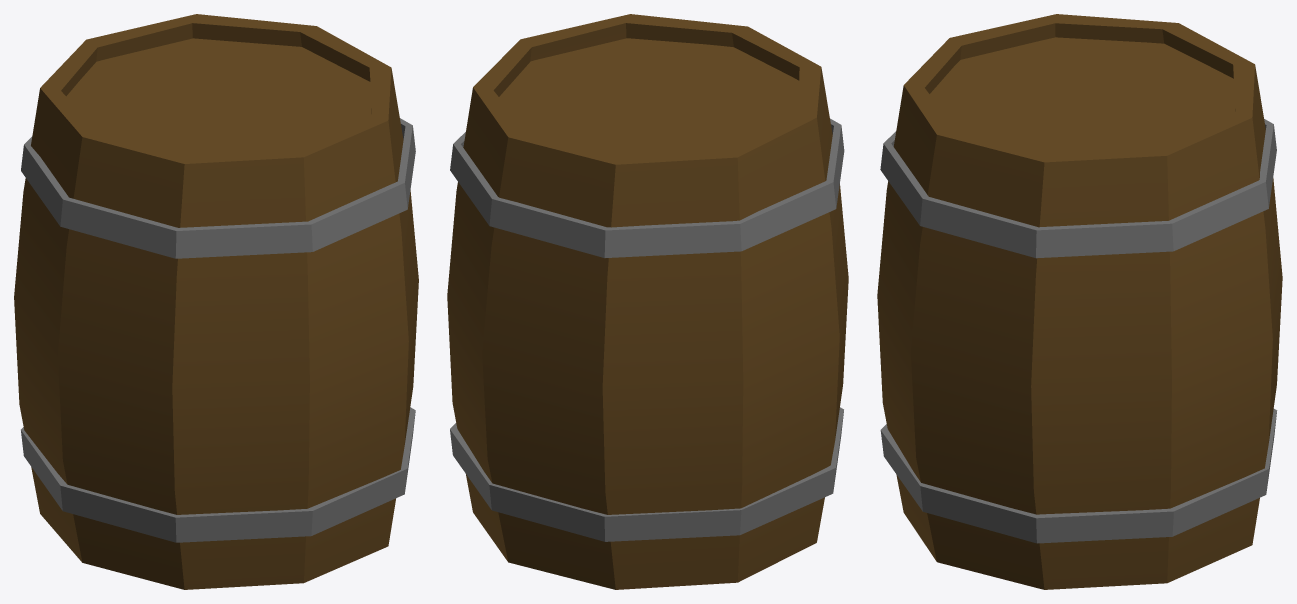
The model's file is asset_Barrel.fbx.
3 views of the same model, side by side, from view 1: azimuth 30°, elevation 25°; view 2: azimuth 150°, elevation 25°; view 3: azimuth 270°, elevation 25° (orthographic).
Parts seen in each view (by area): view 1: Plank04, Plank03, Plank05, Up, Plank02, PipeUp, PipeDown, Plank06, Plank08, Plan09, Plank07, Plank01; view 2: Plank01, Plan09, Plank02, Up, Plank08, PipeUp, PipeDown, Plank03, Plank05, Plank06, Plank04, Plank07; view 3: Plank07, Plank06, Plank08, Up, PipeUp, Plank05, PipeDown, Plan09, Plank02, Plank03, Plank01, Plank04.
Boxes of the visible parts, bbox=[...] form: Plank04: bbox=[172, 148, 309, 589]; Plank03: bbox=[58, 133, 193, 589]; Plank05: bbox=[299, 114, 408, 582]; Up: bbox=[66, 38, 371, 155]; Plank02: bbox=[14, 88, 101, 562]; PipeUp: bbox=[21, 118, 415, 258]; PipeDown: bbox=[21, 407, 415, 542]; Plank06: bbox=[369, 67, 418, 444]; Plank08: bbox=[192, 14, 316, 46]; Plan09: bbox=[86, 14, 196, 61]; Plank07: bbox=[300, 26, 390, 81]; Plank01: bbox=[40, 39, 97, 96]; Plank01: bbox=[602, 148, 743, 589]; Plan09: bbox=[482, 134, 625, 589]; Plank02: bbox=[733, 112, 839, 582]; Up: bbox=[499, 38, 799, 156]; Plank08: bbox=[447, 87, 528, 561]; PipeUp: bbox=[450, 118, 844, 257]; PipeDown: bbox=[450, 407, 843, 541]; Plank03: bbox=[798, 66, 848, 440]; Plank05: bbox=[626, 14, 747, 47]; Plank06: bbox=[521, 14, 630, 61]; Plank04: bbox=[732, 26, 820, 80]; Plank07: bbox=[473, 39, 531, 96]; Plank07: bbox=[1031, 146, 1171, 589]; Plank06: bbox=[910, 132, 1054, 589]; Plank08: bbox=[1163, 111, 1272, 582]; Up: bbox=[929, 37, 1235, 154]; PipeUp: bbox=[880, 119, 1276, 258]; Plank05: bbox=[877, 85, 957, 561]; PipeDown: bbox=[880, 408, 1277, 543]; Plan09: bbox=[1233, 64, 1282, 442]; Plank02: bbox=[1055, 14, 1178, 43]; Plank03: bbox=[950, 14, 1056, 59]; Plank01: bbox=[1162, 23, 1254, 78]; Plank04: bbox=[904, 38, 961, 93].
Size of the model in its own units: 91.72 by 107 by 92.28.
